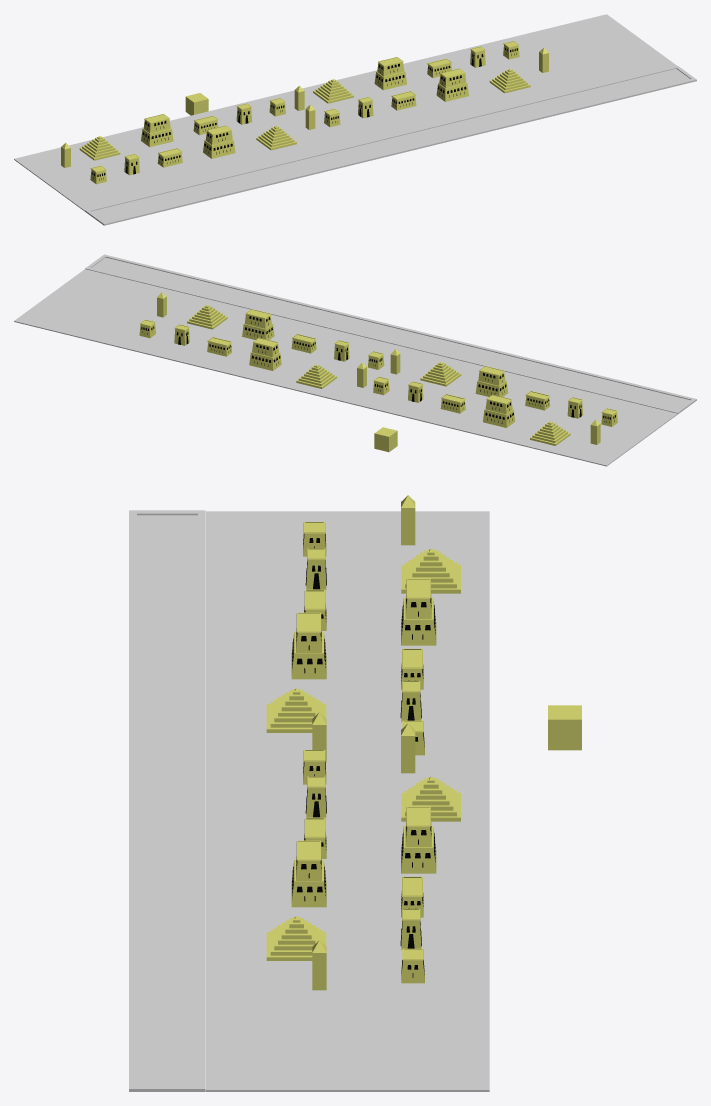
Rendered from Map_4_Level.fbx.
The picture shows the model from 3 angles, top to bottom: view 1: azimuth 30°, elevation 25°; view 2: azimuth 150°, elevation 25°; view 3: azimuth 270°, elevation 25°; orthographic projection. The views are drawn at different scales.
Parts seen in each view (by area): view 1: Plane, Plane.001, eapart_4, eapart_4.001, eapart_4.003, eapart_4.002, piratmit, piratmit.002, piratmit.003, piratmit.001, Cube_e, eapart_3.001 (+3 smaller); view 2: Plane, Plane.001, eapart_4.003, eapart_4.002, eapart_4.001, eapart_4, piratmit, piratmit.001, piratmit.002, piratmit.003, Cube_e, eapart_3 (+3 smaller); view 3: Plane, Plane.001, eapart_4, eapart_4.001, eapart_4.002, eapart_4.003, piratmit, piratmit.001, piratmit.002, piratmit.003, Cube_e.
Part boxes in pixels (x1,y1,x2,y2): Plane: (14,14,676,211); Plane.001: (85,65,696,225); eapart_4: (203,125,235,158); eapart_4.001: (436,68,468,101); eapart_4.003: (141,114,173,147); eapart_4.002: (374,57,406,90); piratmit: (256,126,296,150); piratmit.002: (313,79,353,103); piratmit.003: (79,136,120,160); piratmit.001: (489,69,530,93); Cube_e: (185,93,208,115); eapart_3.001: (391,91,416,110); Plane: (14,269,677,466); Plane.001: (85,254,696,414); eapart_4.003: (483,394,515,427); eapart_4.002: (249,337,281,370); eapart_4.001: (242,309,274,339); eapart_4: (475,366,508,396); piratmit: (420,362,461,386); piratmit.001: (187,305,227,329); piratmit.002: (296,364,336,388); piratmit.003: (530,421,570,445); Cube_e: (374,427,397,452); eapart_3: (525,391,550,410); Plane: (206,511,489,1091); Plane.001: (129,510,205,1091); eapart_4: (291,612,326,679); eapart_4.001: (291,840,326,907); eapart_4.002: (401,806,436,873); eapart_4.003: (401,578,436,645); piratmit: (266,688,326,732); piratmit.001: (266,916,326,960); piratmit.002: (401,777,460,821); piratmit.003: (401,549,460,593); Cube_e: (548,705,581,750).
Bounding box in the file's own units: 22017 × 1452 × 7285.
